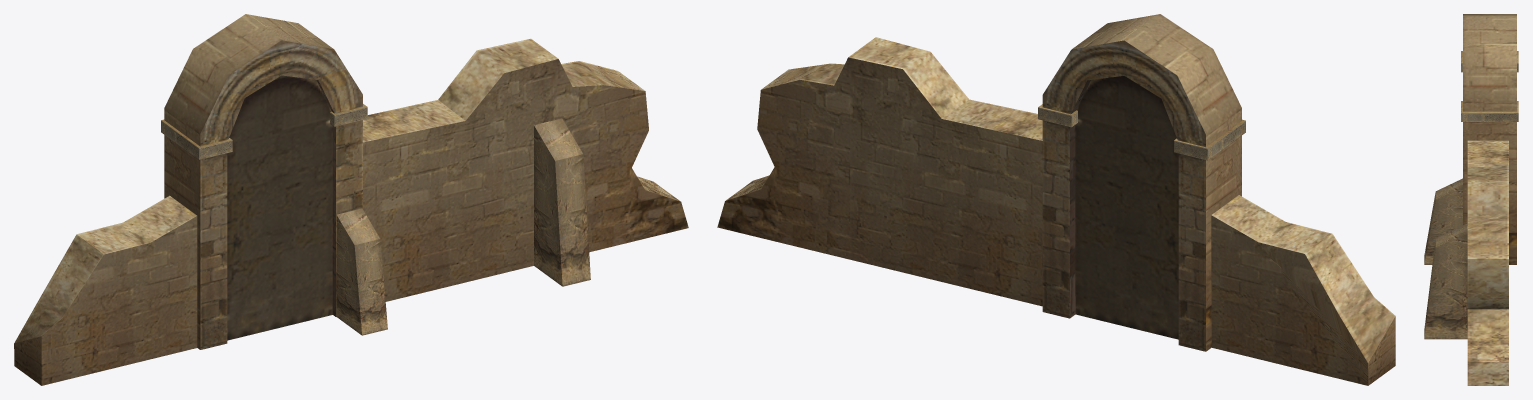
Rendered from yw_huxiaoshamo_qiang02.FBX.
3 renders of one model, left to right at view 1: azimuth 30°, elevation 25°; view 2: azimuth 150°, elevation 25°; view 3: azimuth 270°, elevation 25°, orthographic. The views are drawn at different scales.
Parts seen in each view (by area): view 1: yw_huxiaoshamo_qiang02; view 2: yw_huxiaoshamo_qiang02; view 3: yw_huxiaoshamo_qiang02.
Boxes of the visible parts, x1,y1,x2,y2 form: yw_huxiaoshamo_qiang02: (14,14,688,385); yw_huxiaoshamo_qiang02: (717,14,1395,385); yw_huxiaoshamo_qiang02: (1424,14,1518,385).
Bounding box in the file's own units: 1157 × 496 × 194.
